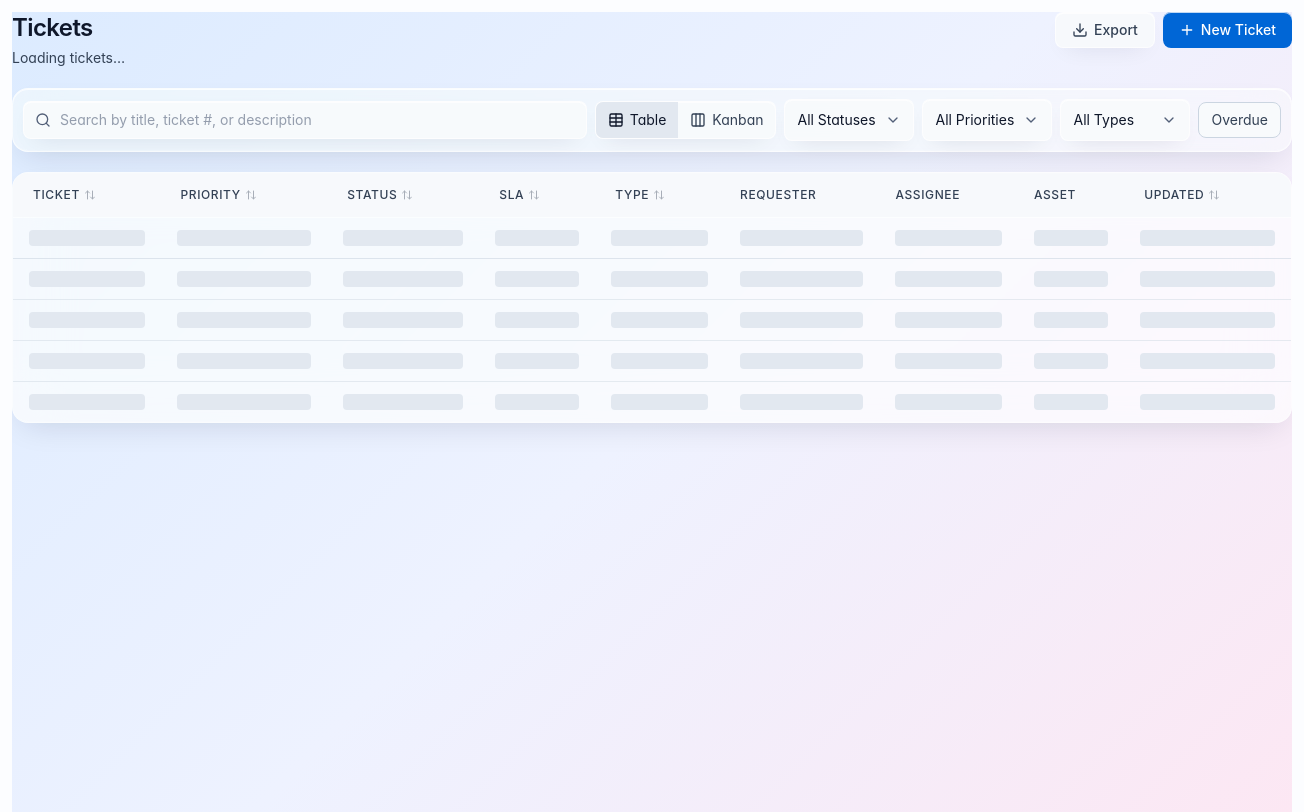
Test: Tickets loading skeletons (task 13) › kanban shows skeleton columns while loading, never 0-tickets flash
This screenshot has width=1304, height=812.
Click the button "Kanban" at (727, 120), box [678,102,776,138]
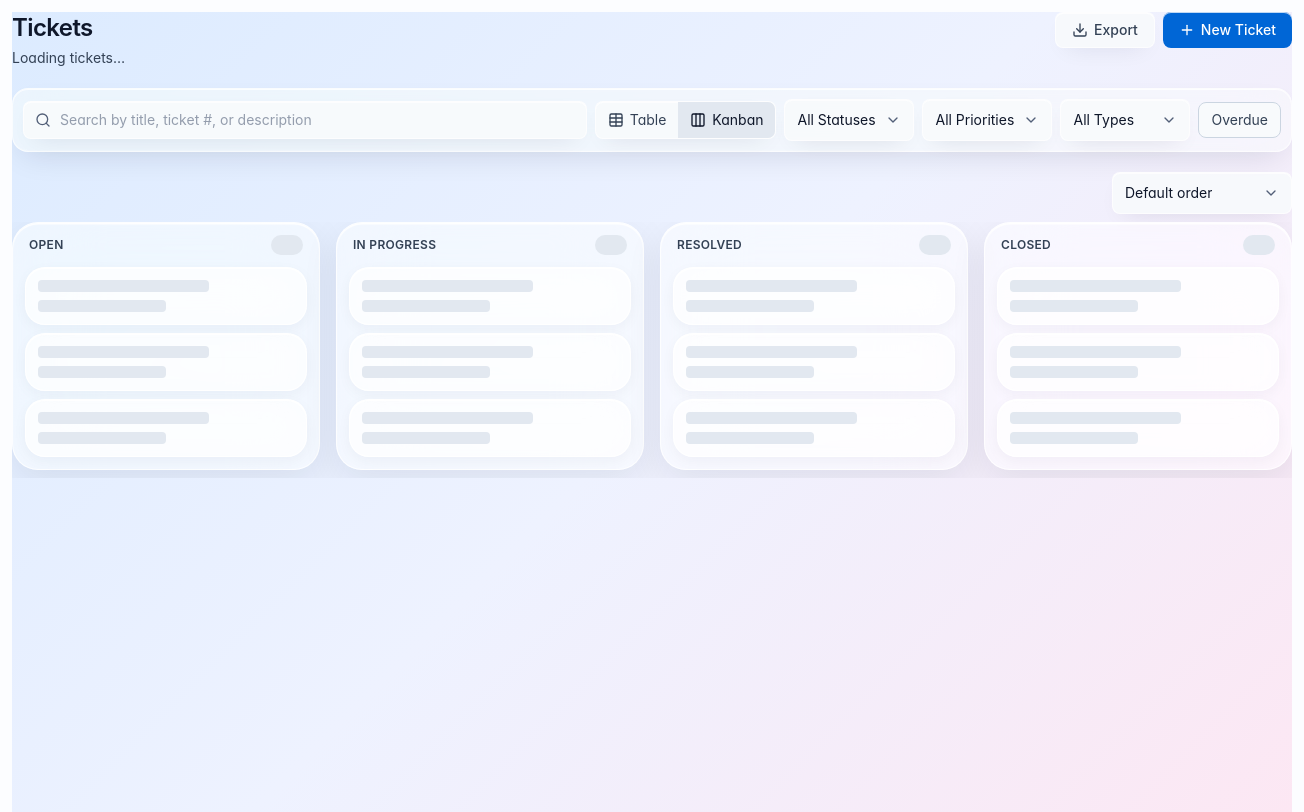
Result: the number of elements with test id "kanban-skeleton" is 4 at [12,222,320,470]; [336,222,644,470]; [660,222,968,470]; [984,222,1292,470]
